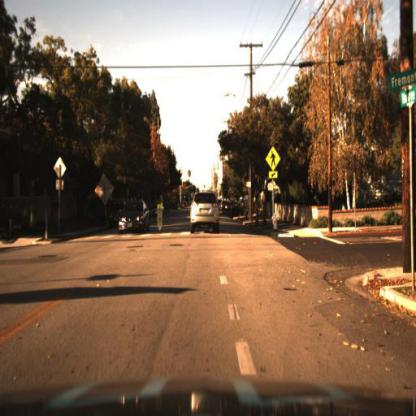car: (188, 190, 222, 238), (117, 199, 151, 241), (117, 200, 151, 234), (220, 195, 235, 222)
